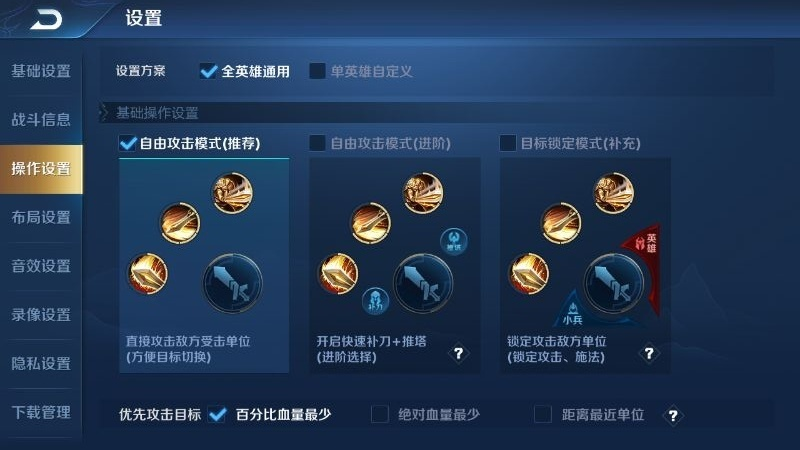return: (20, 3, 72, 34)
tag: (1, 195, 79, 237), (1, 94, 75, 137), (1, 342, 83, 377), (5, 247, 78, 284), (4, 54, 76, 82), (7, 298, 76, 327), (401, 170, 444, 216), (211, 170, 253, 215)
